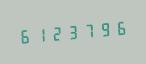nine: (97, 17, 112, 40)
one: (33, 23, 48, 46)
seven: (81, 19, 96, 41)
six: (17, 24, 32, 47), (113, 16, 128, 39)
three: (65, 20, 80, 43)
two: (49, 22, 64, 44)
